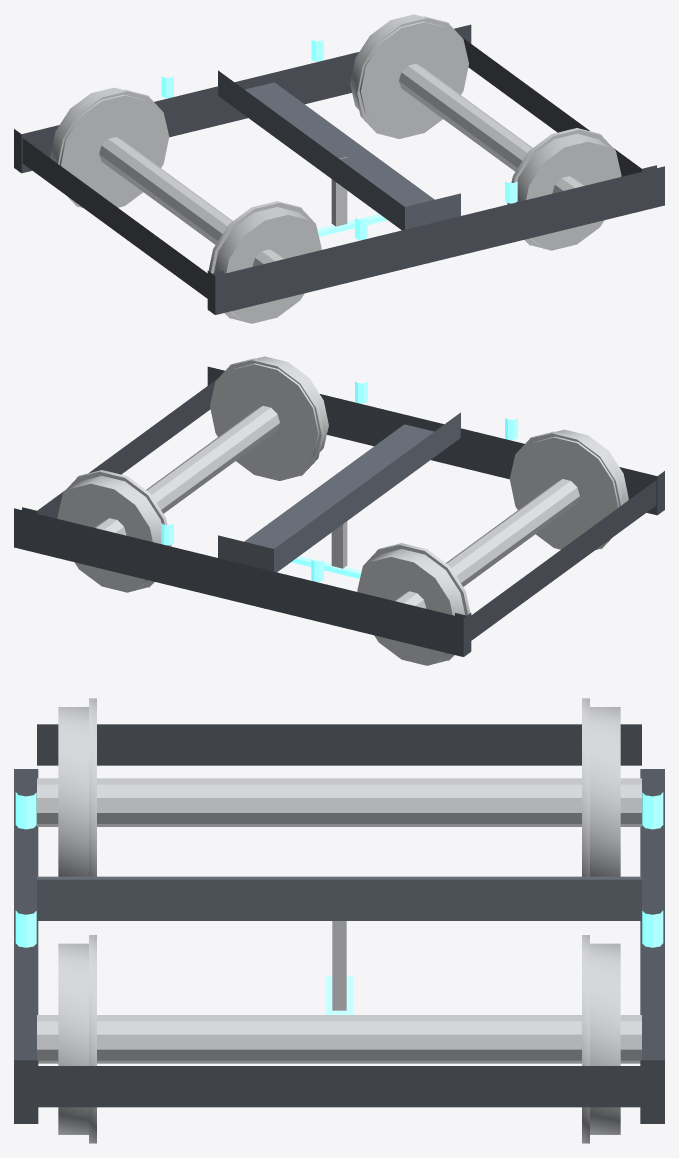
File: ext_tram_bogie_05.glb
3 views of the same model, one above another, from view 1: azimuth 30°, elevation 25°; view 2: azimuth 150°, elevation 25°; view 3: azimuth 270°, elevation 25° (orthographic). The views are drawn at different scales.
Parts seen in each view (by area): view 1: Side_Frames, Wheelset_2, Wheelset_1, Bolster, End_Beams, Springs, Collector_Hanger, Collector_Shoe; view 2: Side_Frames, Wheelset_2, Wheelset_1, Bolster, End_Beams, Springs, Collector_Hanger, Collector_Shoe; view 3: End_Beams, Wheelset_1, Wheelset_2, Bolster, Side_Frames, Springs, Collector_Hanger, Collector_Shoe.
Part boxes in pixels (box(x1,y1,x2,y2)): Side_Frames: box(14, 24, 664, 314); Wheelset_2: box(350, 14, 621, 250); Wheelset_1: box(50, 87, 321, 323); Bolster: box(218, 70, 460, 230); End_Beams: box(22, 37, 656, 298); Springs: box(161, 38, 517, 239); Collector_Hanger: box(331, 157, 347, 226); Collector_Shoe: box(317, 214, 387, 236); Side_Frames: box(14, 366, 664, 656); Wheelset_2: box(57, 356, 328, 592); Wheelset_1: box(357, 429, 628, 665); Bolster: box(218, 412, 460, 572); End_Beams: box(22, 379, 656, 640); Springs: box(161, 380, 517, 581); Collector_Hanger: box(331, 499, 347, 568); Collector_Shoe: box(291, 556, 361, 578); End_Beams: box(37, 724, 641, 1107); Wheelset_1: box(37, 698, 641, 876); Wheelset_2: box(37, 935, 641, 1143); Bolster: box(37, 876, 641, 920); Side_Frames: box(14, 769, 664, 1123); Springs: box(15, 792, 663, 947); Collector_Hanger: box(332, 921, 346, 1010); Collector_Shoe: box(325, 976, 353, 1014).
Size of the model in its own units: 2.4 by 0.5947 by 1.86.
